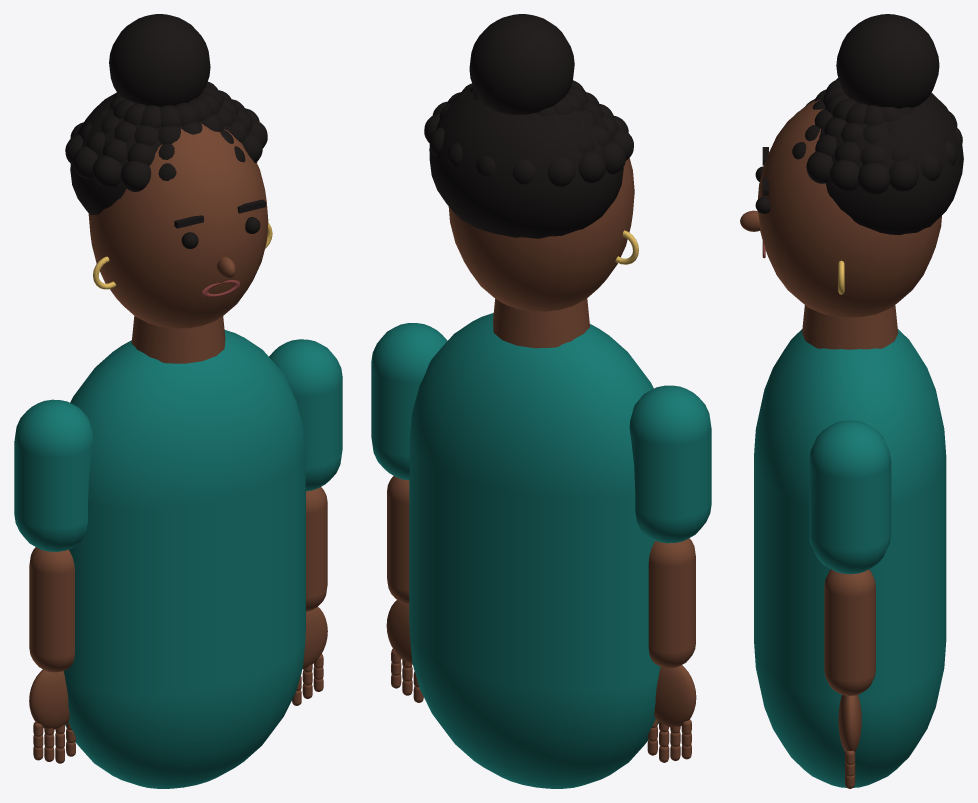
File: avatar.glb
3 renders of one model, left to right at view 1: azimuth 30°, elevation 25°; view 2: azimuth 150°, elevation 25°; view 3: azimuth 270°, elevation 25°, orthographic. The views are drawn at different scales.
Visible parts, largest first — view 1: Top, Face, RightSleeve, Bun, LeftSleeve, RightForearmSkin, NeckSkin, HairCap, LeftForearmSkin, RightPalm, LeftPalm, Curl_0_7 (+2 smaller); view 2: Top, HairCap, Face, RightSleeve, Bun, LeftSleeve, RightForearmSkin, NeckSkin, LeftForearmSkin, RightPalm, LeftPalm, Curl_0_9 (+2 smaller); view 3: Top, Face, LeftSleeve, HairCap, Bun, LeftForearmSkin, NeckSkin, LeftPalm, Curl_0_0, Curl_0_1, Curl_0_15, Curl_0_2 (+3 smaller).
Boxes of the visible parts, <box> form: Top: <box>63,330,305,788</box>; Face: <box>88,124,268,328</box>; RightSleeve: <box>14,399,93,551</box>; Bun: <box>109,14,210,106</box>; LeftSleeve: <box>269,339,342,491</box>; RightForearmSkin: <box>29,547,74,672</box>; NeckSkin: <box>131,316,225,363</box>; HairCap: <box>70,93,257,214</box>; LeftForearmSkin: <box>306,487,327,611</box>; RightPalm: <box>29,669,69,729</box>; LeftPalm: <box>302,606,327,668</box>; Curl_0_7: <box>92,155,121,187</box>; Top: <box>409,313,660,788</box>; HairCap: <box>429,86,623,238</box>; Face: <box>448,158,634,311</box>; RightSleeve: <box>629,385,711,543</box>; Bun: <box>469,14,574,114</box>; LeftSleeve: <box>371,323,447,480</box>; RightForearmSkin: <box>648,538,695,667</box>; NeckSkin: <box>493,298,589,348</box>; LeftForearmSkin: <box>387,476,409,604</box>; RightPalm: <box>654,665,696,727</box>; LeftPalm: <box>386,600,412,664</box>; Curl_0_9: <box>578,150,605,182</box>; Top: <box>754,329,946,787</box>; Face: <box>757,99,941,317</box>; LeftSleeve: <box>809,420,891,574</box>; HairCap: <box>819,92,963,234</box>; Bun: <box>836,14,939,108</box>; LeftForearmSkin: <box>824,569,875,695</box>; NeckSkin: <box>802,305,898,349</box>; LeftPalm: <box>838,694,861,751</box>; Curl_0_0: <box>858,163,890,194</box>; Curl_0_1: <box>829,160,859,192</box>; Curl_0_15: <box>889,160,918,191</box>; Curl_0_2: <box>806,151,832,183</box>.
Bounding box in the file's own units: 1.08 × 2.43 × 0.651.
